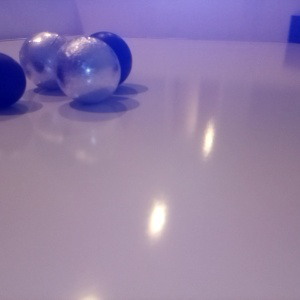alive_ball: (51, 36, 121, 104), (19, 31, 70, 90)
dead_ball: (81, 30, 133, 88), (1, 52, 27, 108)
